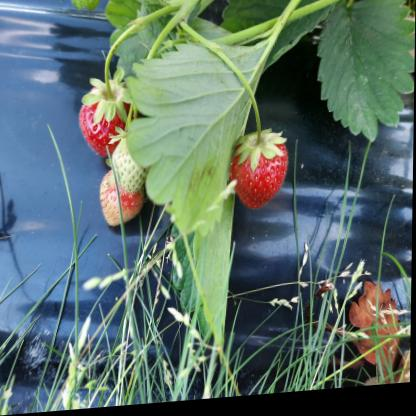ripe: (231, 132, 293, 212), (77, 88, 134, 151)
unripe: (99, 180, 143, 232), (115, 136, 149, 191)
